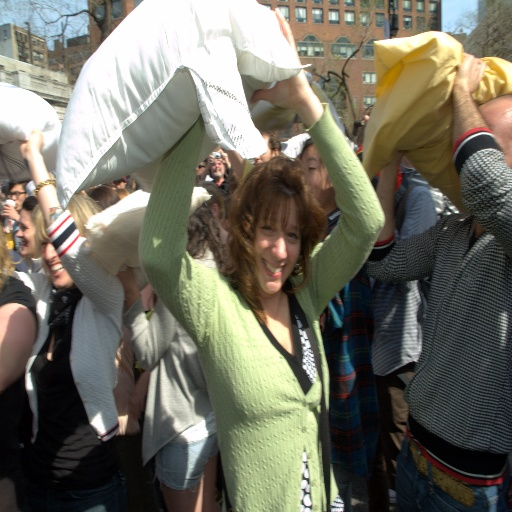hand: (247, 5, 310, 113), (456, 47, 499, 138), (114, 265, 139, 305), (18, 128, 45, 163), (0, 201, 19, 221), (216, 146, 230, 166), (391, 148, 409, 163), (206, 152, 217, 166)
